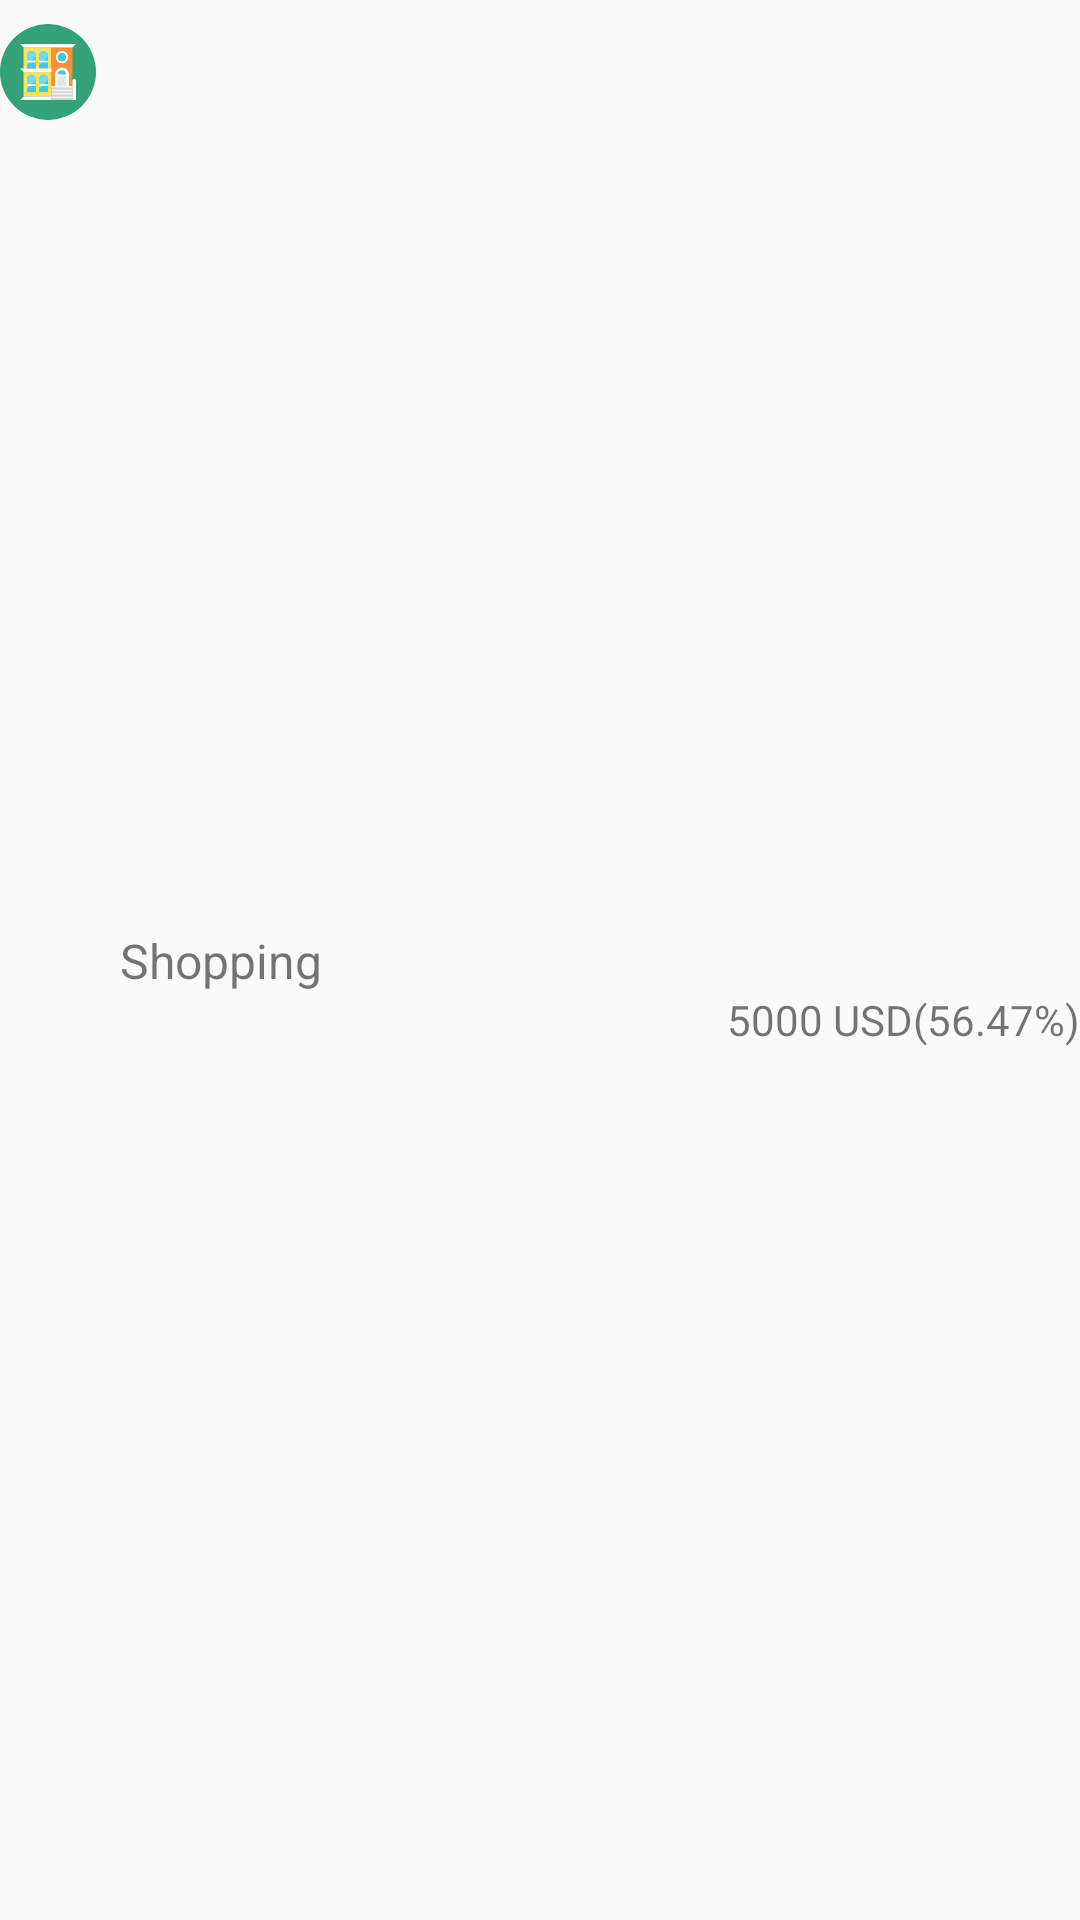

Icon bounding boxes for this 1080px×1920px phone screenshot, format [x1,y1,x2,y2]:
expence family: [0,24,96,120]
